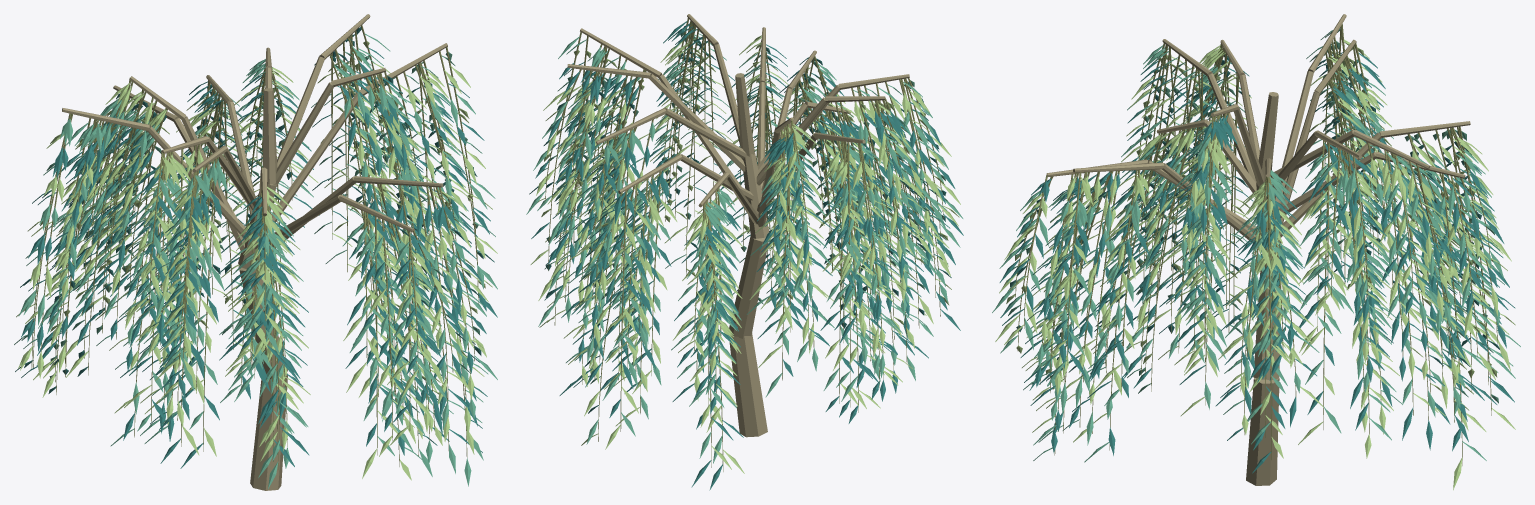
Rendered from willow.glb.
3 views of the same model, side by side, from view 1: azimuth 30°, elevation 25°; view 2: azimuth 150°, elevation 25°; view 3: azimuth 270°, elevation 25° (orthographic). The views are drawn at different scales.
Parts seen in each view (by area): view 1: Sunwen_willow; view 2: Sunwen_willow; view 3: Sunwen_willow.
Boxes of the visible parts, x1,y1,x2,y2 form: Sunwen_willow: (14,14,497,490); Sunwen_willow: (526,14,963,490); Sunwen_willow: (992,14,1520,490).
Bounding box in the file's own units: 4.85 × 4.4 × 5.1.
